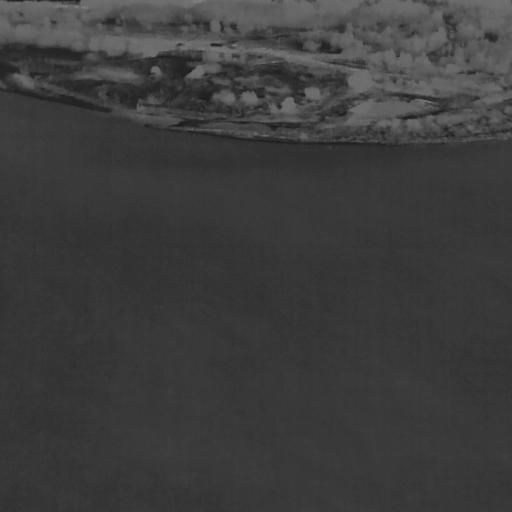uav: (159, 302, 167, 311)
